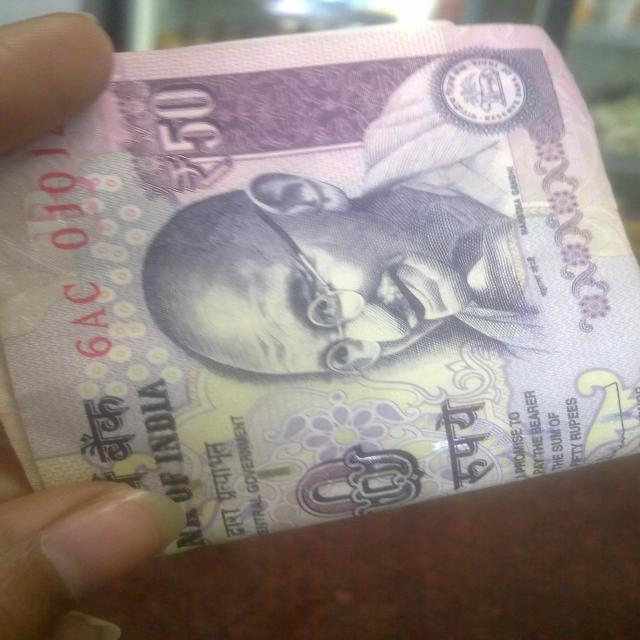50rs: (8, 19, 640, 568)
